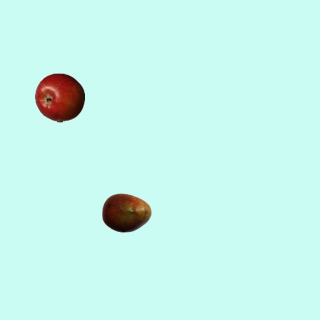Apple Braeburn: (34, 72, 84, 122)
Mango Red: (101, 187, 151, 237)
